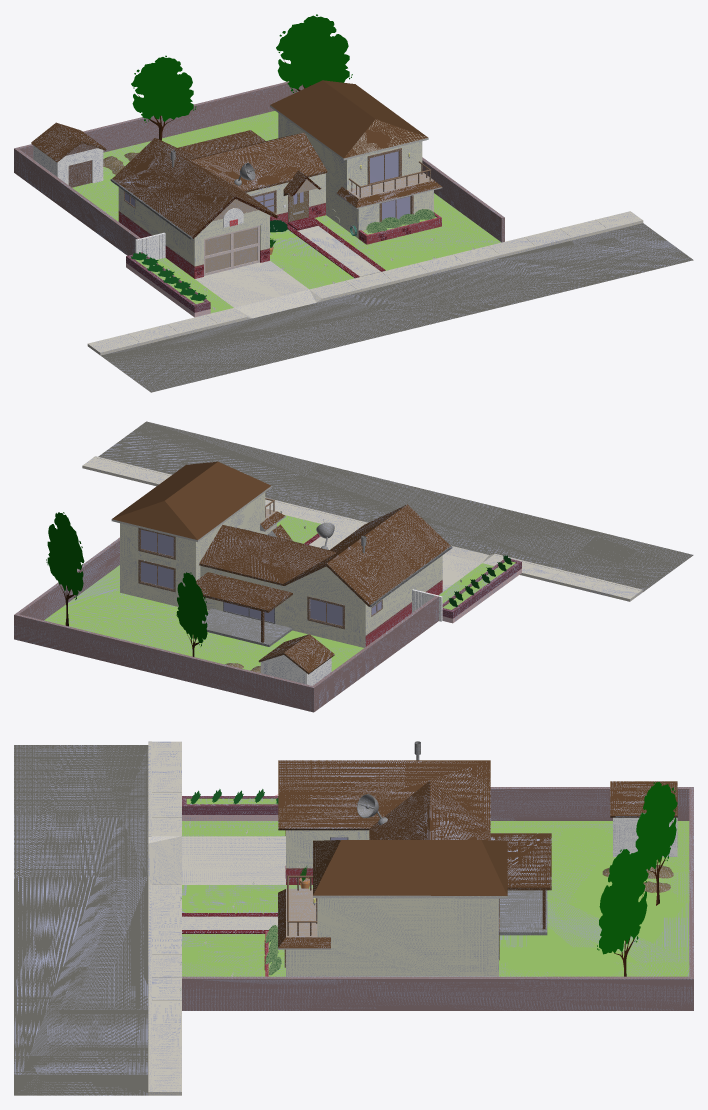
File: residence-smith.dae
The picture shows the model from 3 angles, top to bottom: view 1: azimuth 30°, elevation 25°; view 2: azimuth 150°, elevation 25°; view 3: azimuth 270°, elevation 25°; orthographic projection. The views are drawn at different scales.
Parts seen in each view (by area): view 1: Componente_62, Componente_16 (×2), Componente_40 (×4), Componente_54, Componente_38, Componente_42, Tree_2D_Schematic_Maple2 (×2), Componente_17 (×2), Componente_15, Componente_5, Componente_10, Componente_1 (+4 smaller); view 2: Componente_62, Componente_38, Componente_40 (×2), Componente_54, Componente_16, Componente_17, Componente_42, Tree_2D_Schematic_Maple2 (×2), Componente_49, Componente_47, Componente_5, Componente_1 (+2 smaller); view 3: Componente_62, Componente_16 (×2), Componente_38, Componente_40 (×2), Componente_54, Componente_42, Componente_17 (×3), Tree_2D_Schematic_Maple2 (×2), Componente_15, Componente_49, Componente_47, Componente_45 (×2) (+4 smaller).
Part boxes in pixels (left/top/right/bottom): Componente_62: left=100, top=223, right=693, bottom=392; Componente_16 (×2): left=72, top=111, right=501, bottom=313; Componente_40 (×4): left=118, top=113, right=433, bottom=278; Componente_54: left=112, top=132, right=327, bottom=237; Componente_38: left=14, top=81, right=504, bottom=255; Componente_42: left=87, top=211, right=643, bottom=355; Tree_2D_Schematic_Maple2 (×2): left=131, top=15, right=349, bottom=121; Componente_17 (×2): left=270, top=80, right=428, bottom=158; Componente_15: left=195, top=261, right=308, bottom=307; Componente_5: left=31, top=122, right=106, bottom=162; Componente_10: left=297, top=225, right=380, bottom=276; Componente_1: left=33, top=145, right=103, bottom=184; Componente_62: left=98, top=421, right=693, bottom=591; Componente_38: left=14, top=537, right=438, bottom=712; Componente_40 (×2): left=120, top=492, right=442, bottom=647; Componente_54: left=199, top=504, right=450, bottom=606; Componente_16: left=44, top=515, right=493, bottom=671; Componente_17: left=112, top=461, right=270, bottom=539; Componente_42: left=82, top=456, right=642, bottom=601; Tree_2D_Schematic_Maple2 (×2): left=47, top=512, right=208, bottom=643; Componente_49: left=196, top=572, right=292, bottom=611; Componente_47: left=202, top=608, right=292, bottom=646; Componente_5: left=258, top=634, right=334, bottom=674; Componente_1: left=260, top=655, right=331, bottom=685; Componente_62: left=14, top=745, right=148, bottom=1095; Componente_16 (×2): left=182, top=821, right=689, bottom=976; Componente_38: left=182, top=787, right=693, bottom=1010; Componente_40 (×2): left=286, top=830, right=498, bottom=976; Componente_54: left=278, top=760, right=490, bottom=840; Componente_42: left=148, top=741, right=181, bottom=1095; Componente_17 (×3): left=313, top=840, right=507, bottom=898; Tree_2D_Schematic_Maple2 (×2): left=599, top=782, right=677, bottom=954; Componente_15: left=182, top=836, right=285, bottom=884; Componente_49: left=490, top=833, right=551, bottom=889; Componente_47: left=499, top=890, right=547, bottom=935; Componente_45 (×2): left=182, top=796, right=278, bottom=820.
Size of the model in its own units: 1702 by 1396 by 343.
